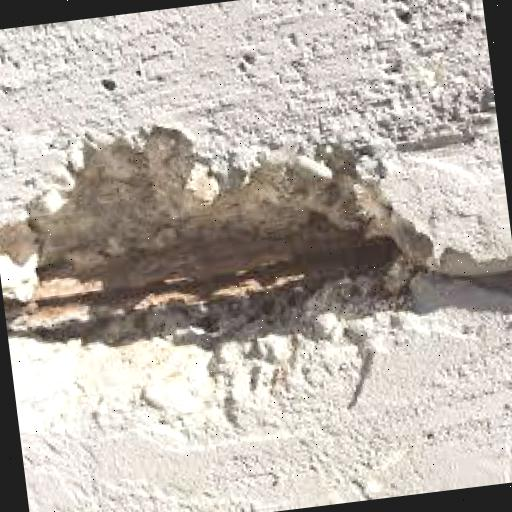spalling: (0, 133, 421, 389)
